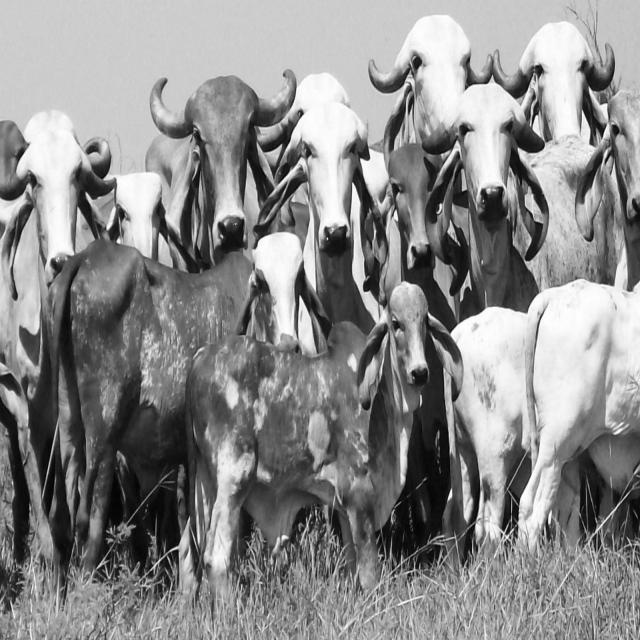Cow: (182, 304, 450, 598), (130, 36, 290, 262), (417, 58, 546, 272), (1, 77, 112, 294), (288, 81, 373, 272)
